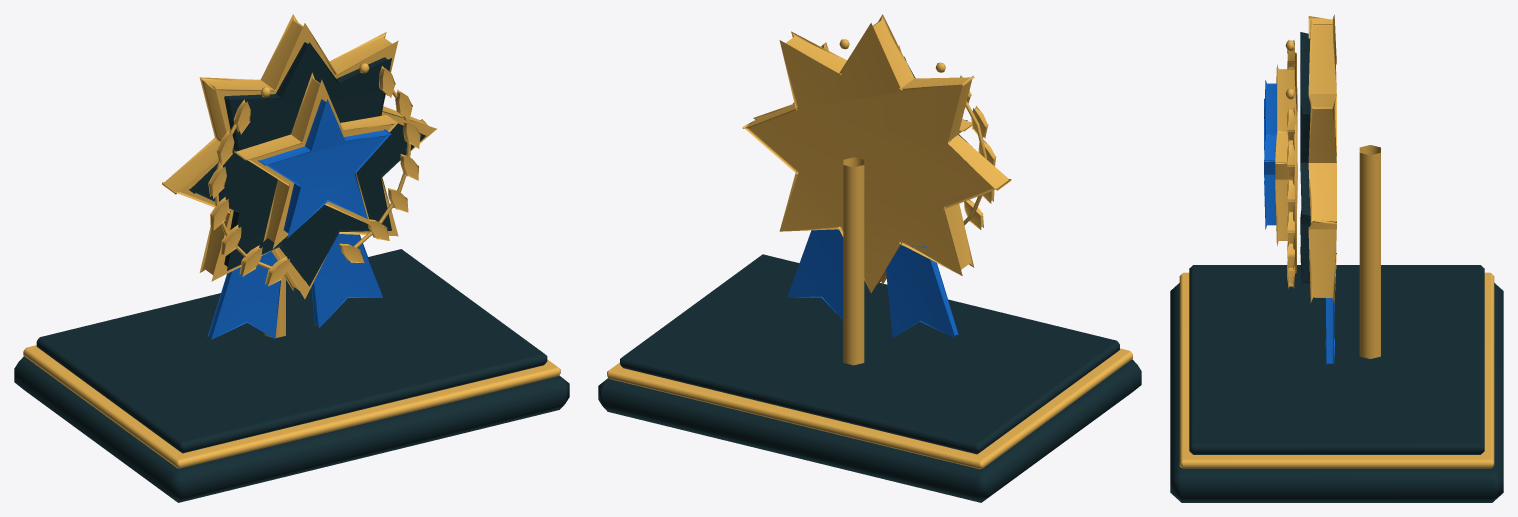
File: chess.insignia.star.glb
The picture shows the model from 3 angles, left to right: view 1: azimuth 30°, elevation 25°; view 2: azimuth 150°, elevation 25°; view 3: azimuth 270°, elevation 25°; orthographic projection. The views are drawn at different scales.
Visible parts, largest first — view 1: stand_top, stand_base, recessed_enamel, cast_medal_rim, stand_gold_band, faceted_symbol_enamel, raised_symbol_setting, ribbon_tail, ribbon_tail.001; view 2: stand_top, cast_medal_rim, stand_base, stand_gold_band, medallion_support, ribbon_tail, ribbon_tail.001; view 3: stand_top, stand_base, stand_gold_band, cast_medal_rim, medallion_support, raised_symbol_setting, recessed_enamel, faceted_symbol_enamel, ribbon_tail.001, laurel_stem.001.
Part boxes in pixels (bbox=[...]): stand_top: bbox=[36, 249, 547, 453]; stand_base: bbox=[14, 356, 569, 502]; recessed_enamel: bbox=[189, 42, 425, 286]; cast_medal_rim: bbox=[162, 14, 436, 298]; stand_gold_band: bbox=[23, 345, 560, 468]; faceted_symbol_enamel: bbox=[258, 99, 391, 238]; raised_symbol_setting: bbox=[234, 72, 399, 248]; ribbon_tail: bbox=[207, 251, 280, 339]; ribbon_tail.001: bbox=[311, 234, 382, 328]; stand_top: bbox=[620, 254, 1119, 454]; cast_medal_rim: bbox=[742, 14, 1011, 293]; stand_base: bbox=[598, 359, 1141, 502]; stand_gold_band: bbox=[607, 348, 1132, 469]; medallion_support: bbox=[843, 157, 864, 365]; ribbon_tail: bbox=[886, 245, 958, 338]; ribbon_tail.001: bbox=[787, 229, 843, 319]; stand_top: bbox=[1189, 265, 1484, 454]; stand_base: bbox=[1170, 283, 1503, 502]; stand_gold_band: bbox=[1179, 272, 1494, 468]; cast_medal_rim: bbox=[1308, 14, 1336, 302]; medallion_support: bbox=[1359, 145, 1380, 358]; raised_symbol_setting: bbox=[1275, 64, 1297, 246]; recessed_enamel: bbox=[1300, 32, 1310, 285]; faceted_symbol_enamel: bbox=[1264, 80, 1276, 229]; ribbon_tail.001: bbox=[1325, 298, 1334, 364]; laurel_stem.001: bbox=[1293, 124, 1296, 273].
Size of the model in its own units: 0.672 by 0.6195 by 0.48.
